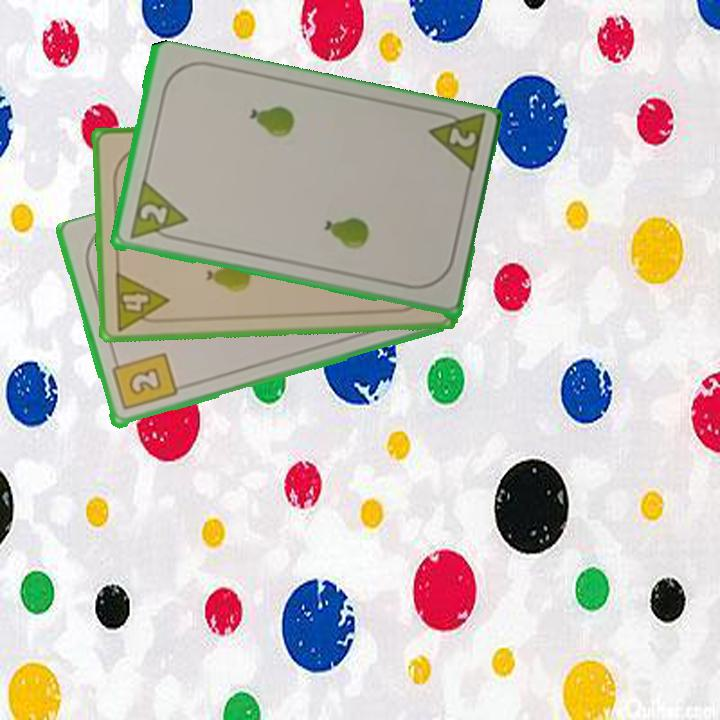2b: (108, 349, 179, 414)
2p: (423, 106, 488, 179), (125, 179, 190, 246)
4p: (111, 268, 172, 333)
